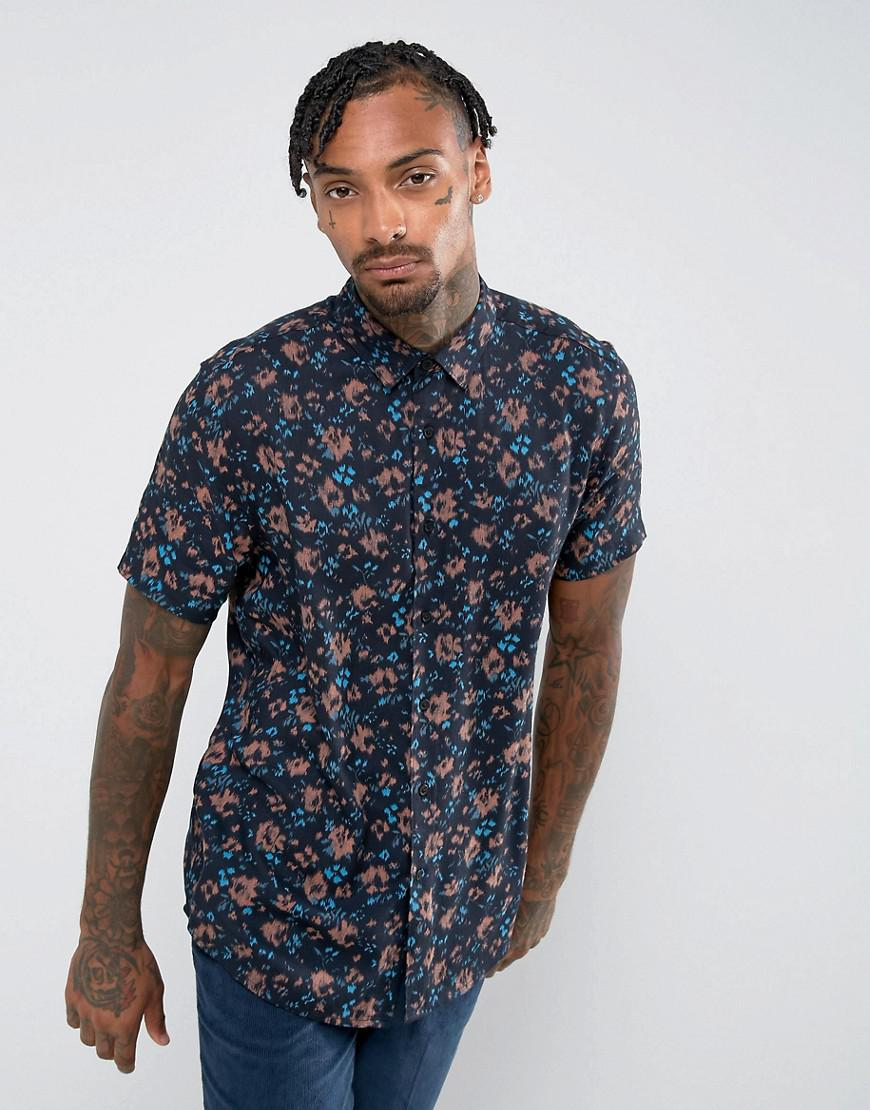teeshirt: (68, 308, 644, 1034)
